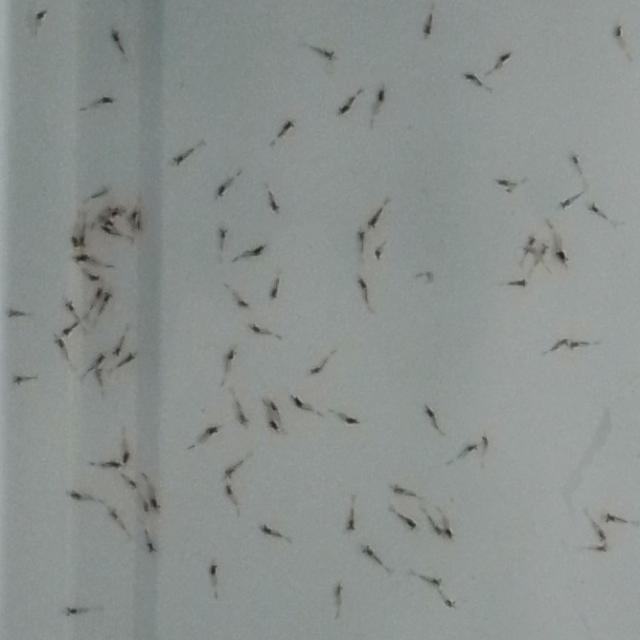shrimp-seed: (318, 46, 336, 64), (592, 526, 610, 542), (62, 604, 80, 620), (72, 252, 90, 268), (172, 151, 188, 168), (510, 277, 529, 291), (443, 596, 459, 612), (494, 176, 510, 192), (593, 541, 610, 556), (554, 246, 568, 264), (125, 350, 139, 368), (612, 23, 625, 42), (390, 483, 406, 498), (375, 86, 387, 106), (338, 102, 353, 118), (51, 334, 66, 350), (250, 244, 267, 258), (12, 373, 27, 388), (602, 511, 618, 525), (359, 544, 375, 558), (206, 424, 220, 440), (568, 152, 582, 168), (464, 70, 480, 84), (280, 120, 294, 136), (93, 186, 109, 200), (100, 94, 116, 108), (31, 8, 47, 22), (332, 580, 344, 598), (215, 184, 227, 202), (64, 298, 76, 316), (223, 466, 237, 481), (462, 442, 477, 456), (424, 406, 438, 421), (498, 51, 512, 66), (95, 352, 108, 368), (344, 416, 361, 428), (260, 524, 274, 538), (106, 458, 120, 472), (570, 339, 584, 353), (560, 197, 574, 211), (208, 562, 220, 578), (292, 396, 304, 412), (356, 227, 368, 243), (93, 286, 105, 302), (422, 22, 433, 39), (431, 576, 444, 590), (70, 491, 84, 504), (119, 451, 132, 465), (112, 343, 125, 357), (479, 434, 491, 449), (225, 348, 237, 363), (538, 240, 550, 255), (268, 286, 280, 301), (238, 414, 249, 430), (432, 522, 444, 536), (404, 518, 416, 532), (345, 520, 357, 534), (145, 540, 157, 554), (148, 497, 160, 511), (310, 365, 324, 377), (356, 277, 368, 291), (217, 228, 229, 242), (62, 326, 74, 340), (111, 204, 125, 216), (110, 30, 122, 44), (70, 233, 80, 249), (131, 208, 141, 224), (126, 479, 138, 492), (586, 202, 598, 215), (250, 323, 262, 336), (269, 200, 281, 213), (268, 418, 279, 432), (100, 219, 114, 230), (527, 233, 537, 248), (78, 233, 88, 248), (224, 486, 236, 498), (267, 400, 279, 412), (556, 337, 568, 349), (522, 243, 534, 255), (238, 298, 250, 310), (7, 308, 19, 320), (88, 272, 100, 284), (108, 509, 119, 522), (104, 291, 114, 305), (93, 368, 104, 380), (368, 217, 378, 230), (373, 248, 382, 262), (444, 528, 454, 540), (140, 502, 150, 514), (100, 228, 112, 235), (136, 222, 144, 232)
